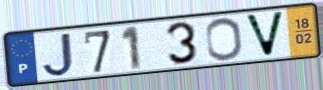1: (119, 24, 144, 71)
3: (164, 19, 201, 67)
7: (82, 28, 113, 74)
J: (41, 31, 77, 79)
O: (204, 16, 245, 62)
V: (242, 10, 287, 59)
